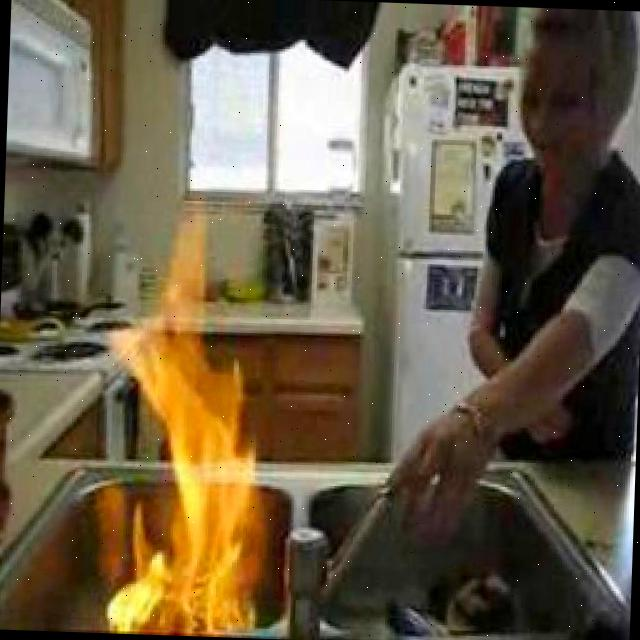fire: (108, 222, 264, 631)
